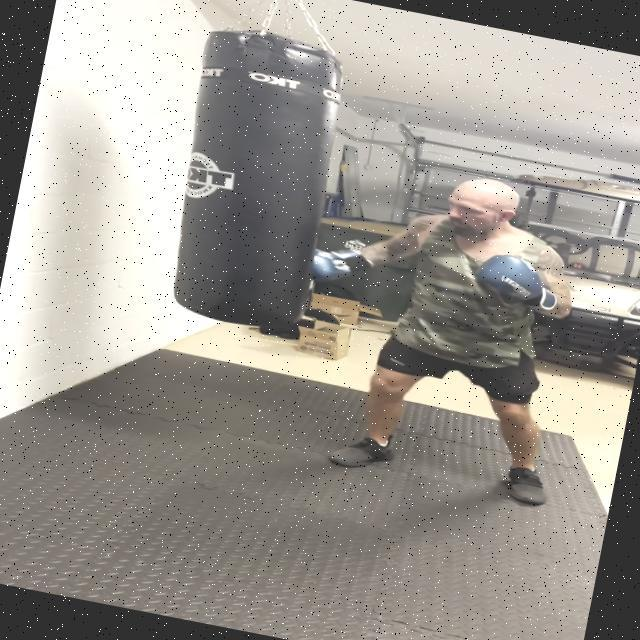punch: (292, 136, 588, 340)
